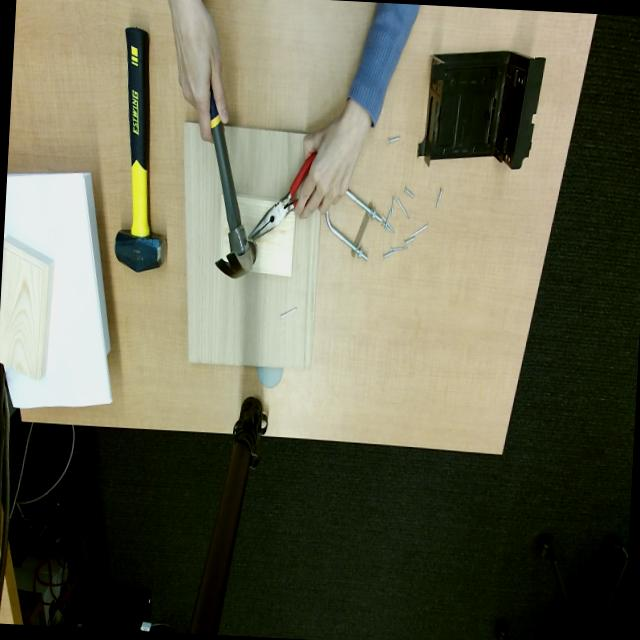hammer: (115, 27, 166, 273), (210, 87, 257, 278)
pliers: (248, 153, 316, 241)
